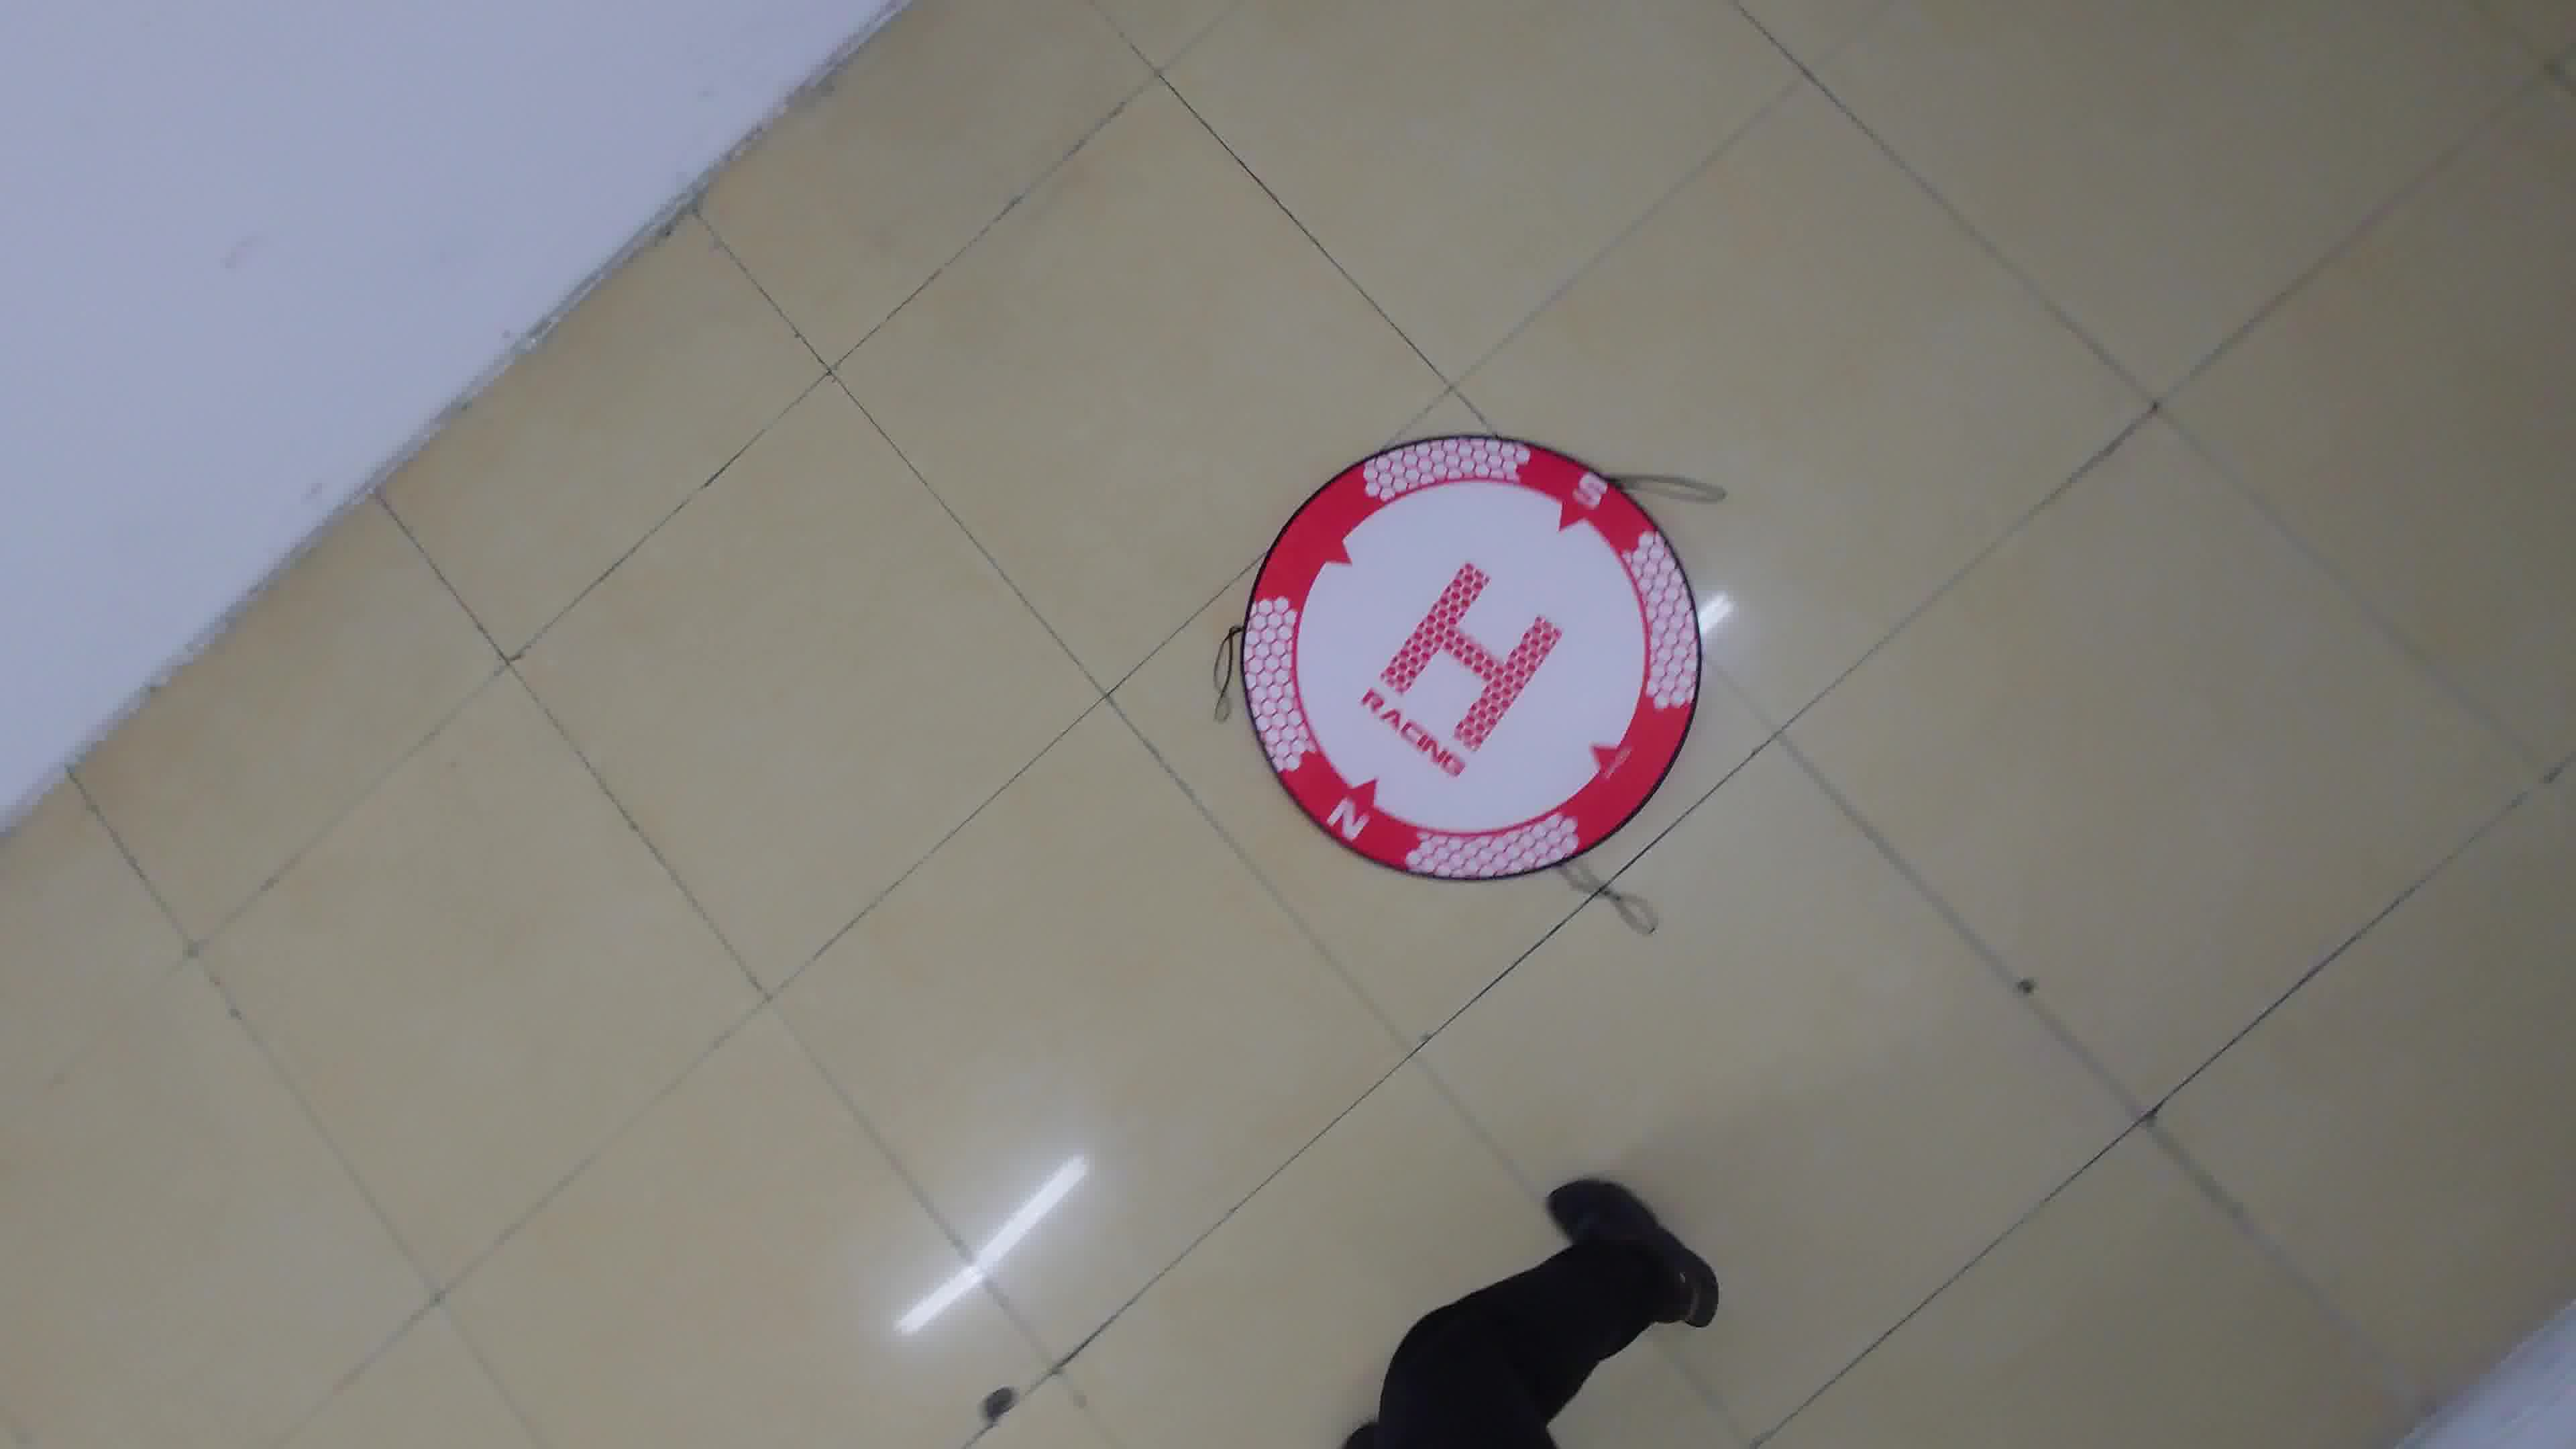H: (1378, 563, 1564, 752)
